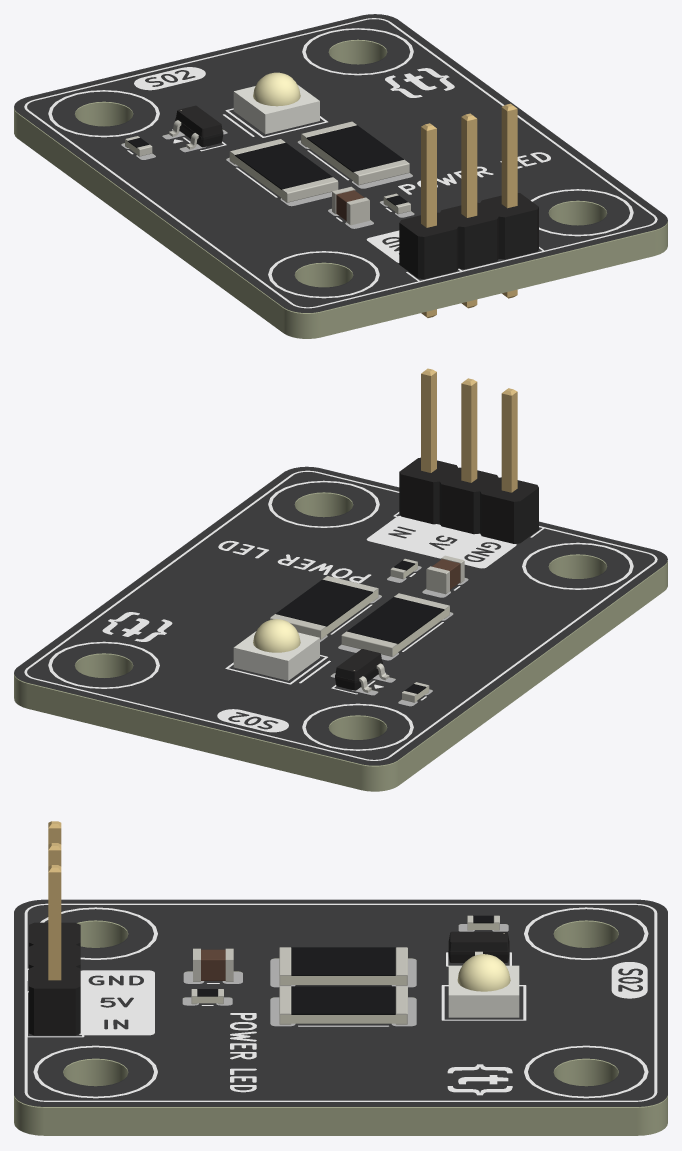
3 renders of one model, top to bottom at view 1: azimuth 30°, elevation 25°; view 2: azimuth 150°, elevation 25°; view 3: azimuth 270°, elevation 25°, orthographic. The views are drawn at different scales.
Visible parts, largest first — view 1: =>[0:1:1:11], =>[0:1:1:13], J1, =>[0:1:1:9], R4, R3, LED_XPE2_0, Q1, LED_XPE2_1, =>[0:1:1:8], C1; view 2: =>[0:1:1:11], =>[0:1:1:13], J1, =>[0:1:1:9], R4, R3, LED_XPE2_0, Q1, LED_XPE2_1, C1, =>[0:1:1:8]; view 3: =>[0:1:1:11], =>[0:1:1:13], =>[0:1:1:9], J1, R4, R3, LED_XPE2_0, =>[0:1:1:8], Q1, LED_XPE2_1, C1, R2 (+1 smaller).
Part boxes in pixels (box(x1,y1,x2,y2)): =>[0:1:1:11]: box(14, 14, 667, 312); =>[0:1:1:13]: box(14, 39, 667, 338); J1: box(399, 103, 538, 317); =>[0:1:1:9]: box(24, 18, 657, 308); R4: box(229, 139, 338, 202); R3: box(301, 121, 409, 185); LED_XPE2_0: box(233, 84, 319, 134); Q1: box(169, 105, 223, 149); LED_XPE2_1: box(253, 72, 300, 106); =>[0:1:1:8]: box(121, 130, 414, 228); C1: box(332, 186, 369, 225); =>[0:1:1:11]: box(14, 466, 667, 765); =>[0:1:1:13]: box(14, 492, 667, 791); J1: box(399, 368, 538, 543); =>[0:1:1:9]: box(24, 470, 657, 760); R4: box(341, 593, 449, 656); R3: box(270, 576, 378, 639); LED_XPE2_0: box(233, 631, 319, 680); Q1: box(335, 649, 389, 692); LED_XPE2_1: box(253, 619, 300, 652); C1: box(426, 555, 464, 594); =>[0:1:1:8]: box(320, 566, 468, 706); =>[0:1:1:11]: box(14, 899, 667, 1106); =>[0:1:1:13]: box(14, 920, 667, 1135); =>[0:1:1:9]: box(24, 903, 657, 1101); J1: box(29, 821, 80, 1035); R4: box(279, 947, 407, 985); R3: box(279, 986, 407, 1024); LED_XPE2_0: box(448, 965, 519, 1017); =>[0:1:1:8]: box(182, 924, 508, 1026); Q1: box(448, 931, 509, 962); LED_XPE2_1: box(457, 954, 510, 991); C1: box(193, 948, 233, 981); R2: box(467, 915, 499, 930).
Bounding box in the file's own units: 0.024 × 0.0115 × 0.032.
